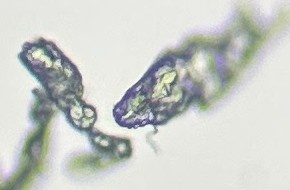microplastic: (112, 1, 289, 155), (18, 38, 135, 176), (1, 87, 57, 190)
